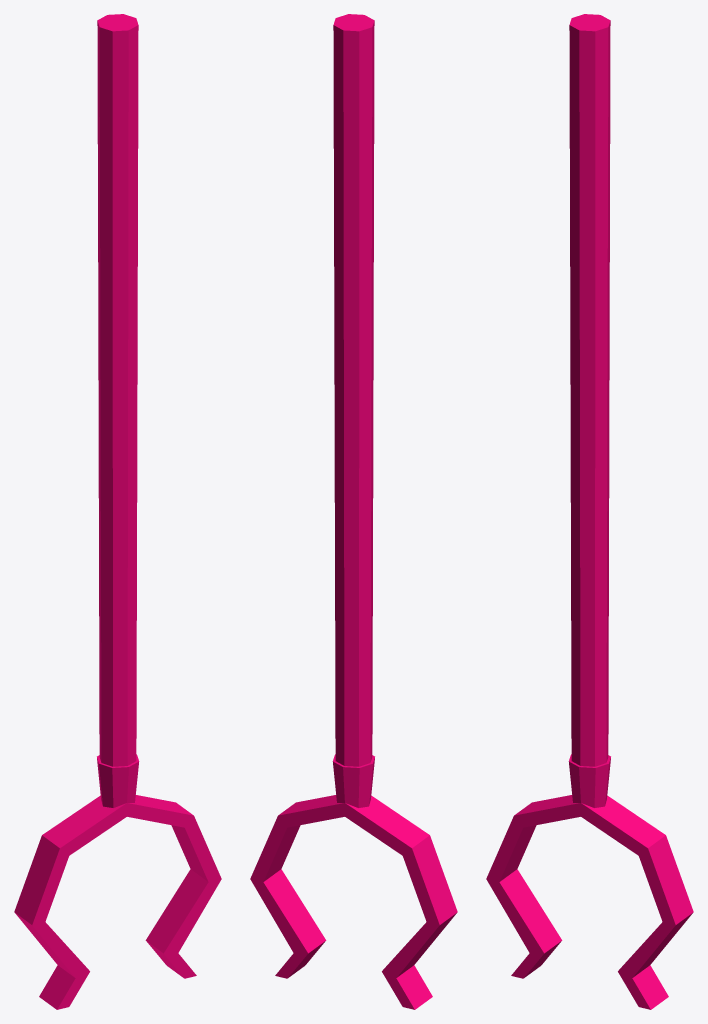
The model's file is SM_SS_Grip.fbx.
3 renders of one model, left to right at view 1: azimuth 30°, elevation 25°; view 2: azimuth 150°, elevation 25°; view 3: azimuth 330°, elevation 25°, orthographic.
Parts seen in each view (by area): view 1: SM_SS_Grip; view 2: SM_SS_Grip; view 3: SM_SS_Grip.
Boxes of the visible parts, x1,y1,x2,y2 form: SM_SS_Grip: (14,14,221,1009); SM_SS_Grip: (250,14,457,1009); SM_SS_Grip: (486,14,693,1009).
Bounding box in the file's own units: 8.4 × 1.69 × 40.81.
